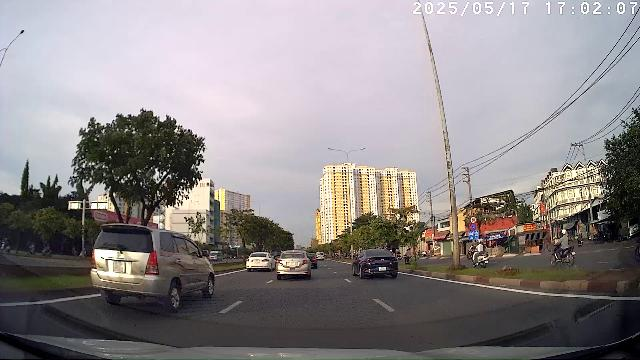127-toc-do-toi-da-60: (469, 216, 477, 224)
131a-cam-do-xe: (469, 224, 477, 231)
